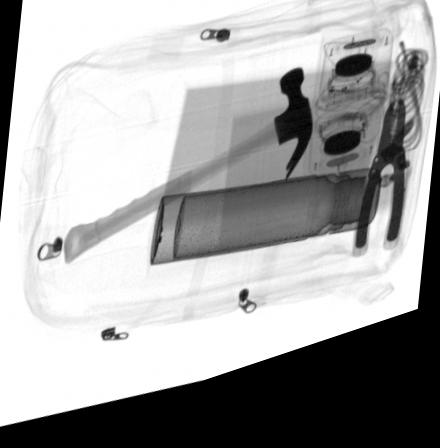Hammer: (62, 86, 312, 268)
Pliers: (351, 123, 406, 278)
